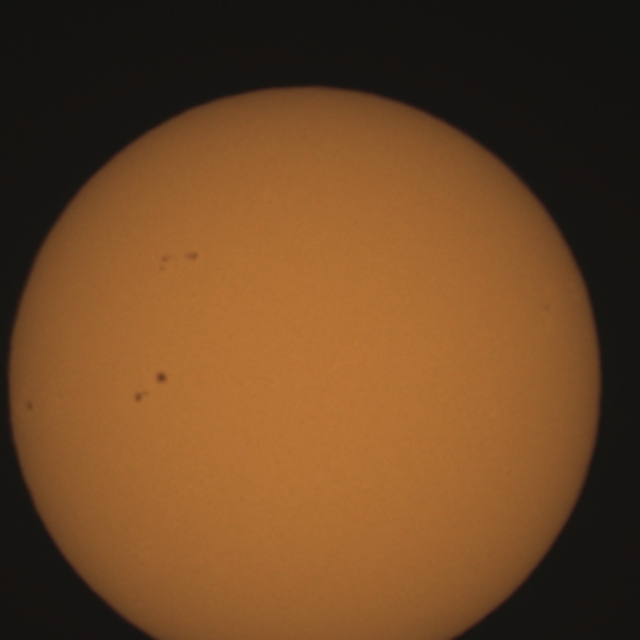sunspot: (132, 371, 169, 406), (157, 250, 201, 272), (158, 253, 173, 274), (132, 389, 150, 405), (153, 370, 170, 386), (184, 250, 200, 263), (24, 398, 35, 414), (541, 302, 552, 314)
